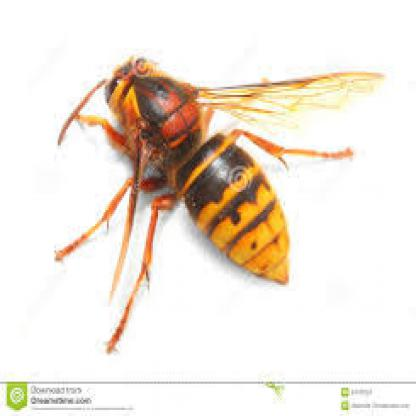european: (56, 51, 389, 352)
